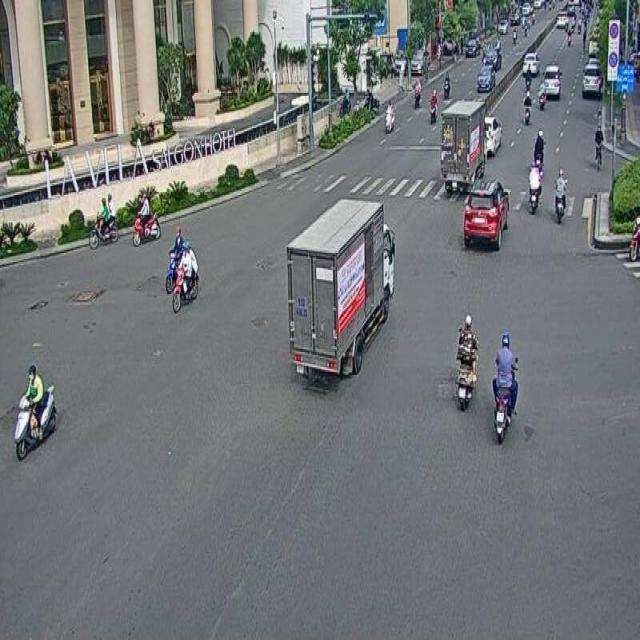car: (463, 177, 510, 251)
motorcycle: (12, 362, 56, 458), (490, 331, 516, 444), (454, 311, 477, 408), (172, 242, 200, 311), (90, 190, 118, 247), (131, 192, 158, 245), (526, 157, 542, 213), (554, 164, 568, 220)
truck: (288, 198, 398, 390), (441, 99, 488, 197)
